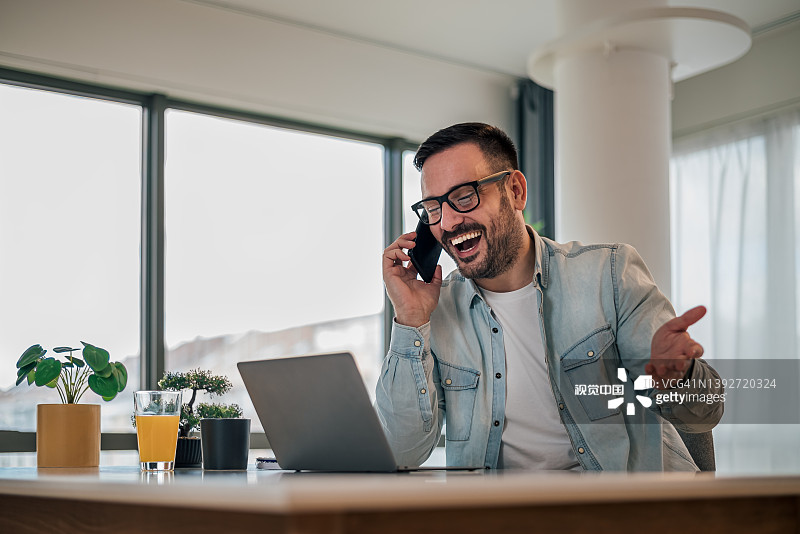calling: (368, 201, 461, 338)
